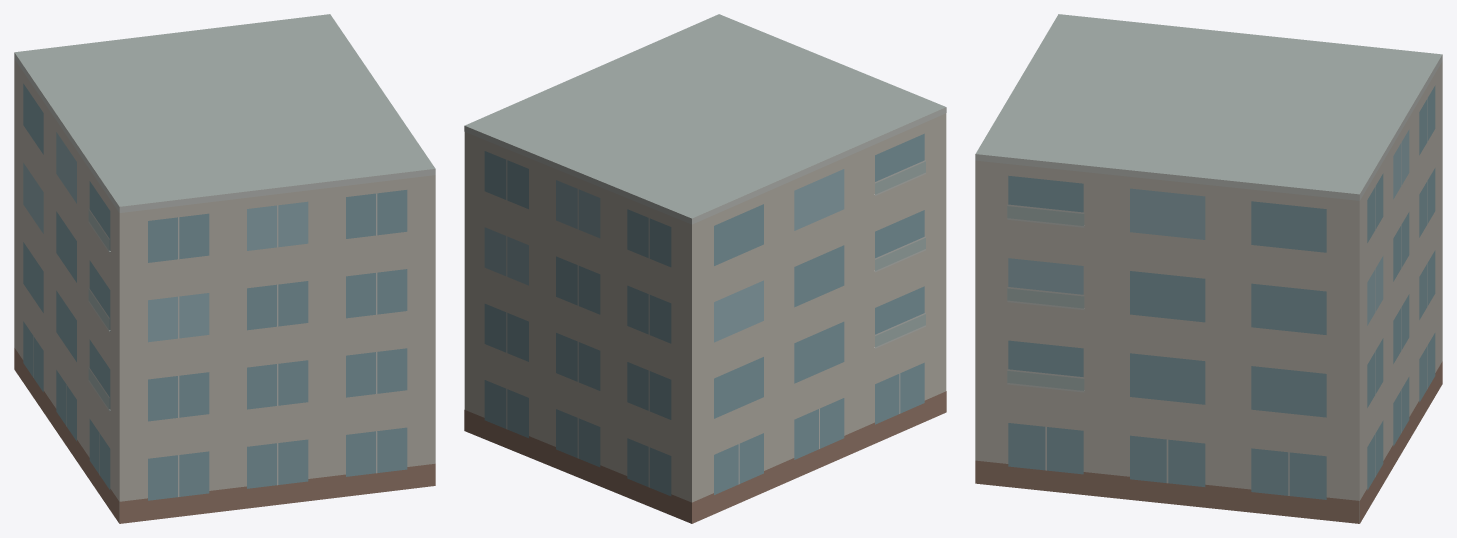
The model's file is survey-upis-33020192.glb.
The picture shows the model from 3 angles, left to right: view 1: azimuth 30°, elevation 25°; view 2: azimuth 150°, elevation 25°; view 3: azimuth 270°, elevation 25°; orthographic projection. The views are drawn at different scales.
Parts seen in each view (by area): view 1: survey-upis-33020192.tmp; view 2: survey-upis-33020192.tmp; view 3: survey-upis-33020192.tmp.
Part boxes in pixels (<box>): survey-upis-33020192.tmp: <box>14,14,435,523</box>; survey-upis-33020192.tmp: <box>464,14,946,523</box>; survey-upis-33020192.tmp: <box>975,14,1442,523</box>.
Size of the model in its own units: 14.45 by 12.3 by 15.81.
